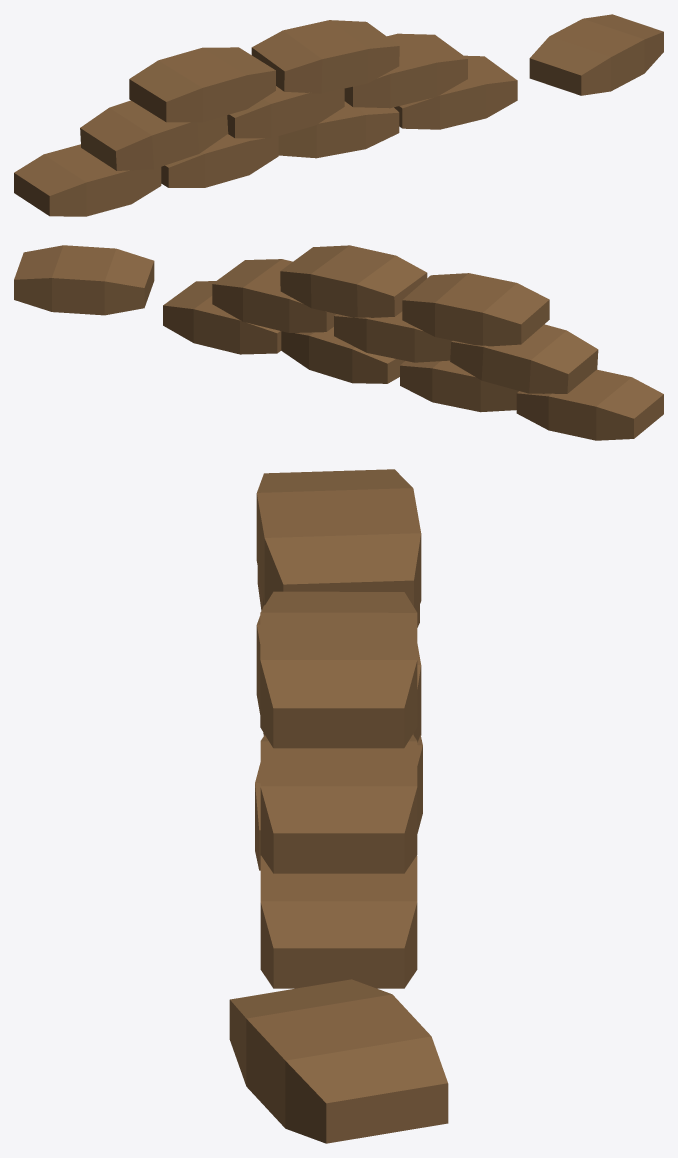
File: LPWarPack_TrenchSandBags2.fbx
3 views of the same model, one above another, from view 1: azimuth 30°, elevation 25°; view 2: azimuth 150°, elevation 25°; view 3: azimuth 270°, elevation 25° (orthographic). The views are drawn at different scales.
Visible parts, largest first — view 1: TrenchSandBags2; view 2: TrenchSandBags2; view 3: TrenchSandBags2.
Part boxes in pixels (left/top/right/bottom): TrenchSandBags2: left=14, top=14, right=663, bottom=216; TrenchSandBags2: left=14, top=245, right=663, bottom=440; TrenchSandBags2: left=229, top=469, right=448, bottom=1143.
Bounding box in the file's own units: 240 × 36.48 × 36.08.
